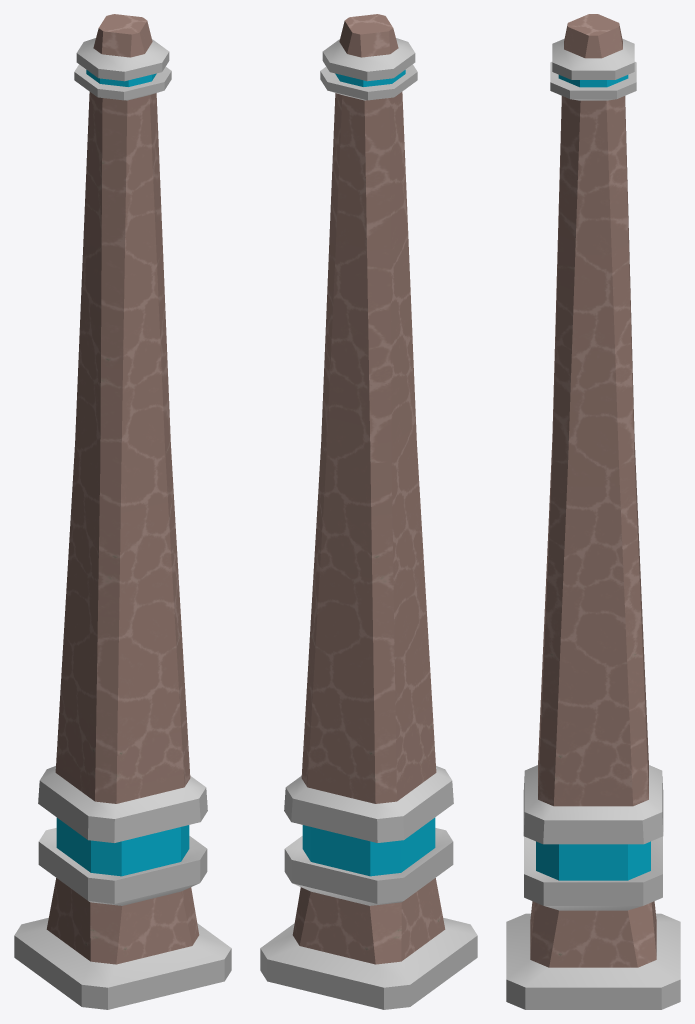
Rendered from Tropics Pillar.fbx.
The picture shows the model from 3 angles, left to right: view 1: azimuth 30°, elevation 25°; view 2: azimuth 150°, elevation 25°; view 3: azimuth 270°, elevation 25°; orthographic projection.
Parts seen in each view (by area): view 1: Cube; view 2: Cube; view 3: Cube.
Boxes of the visible parts, box(x1,y1,x2,y2) form: Cube: box(14, 14, 231, 1009); Cube: box(260, 14, 477, 1009); Cube: box(506, 14, 680, 1009).
Size of the model in its own units: 423 by 2535 by 423.
